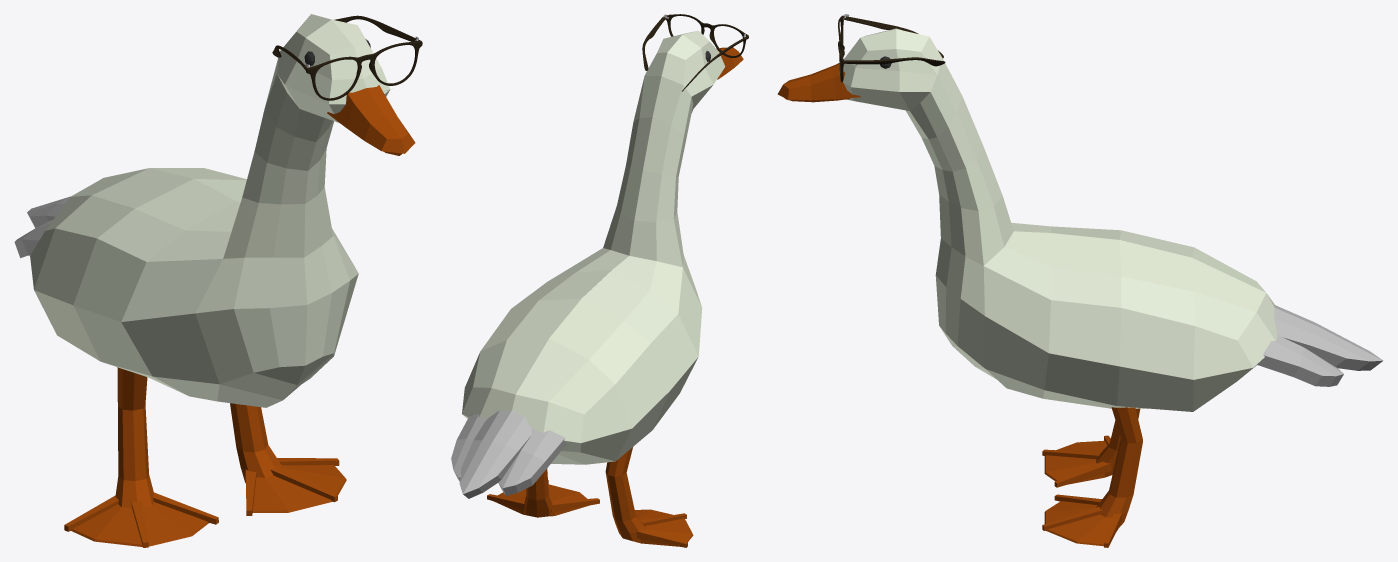
Rendered from duck-glasses.fbx.
3 renders of one model, left to right at view 1: azimuth 30°, elevation 25°; view 2: azimuth 150°, elevation 25°; view 3: azimuth 270°, elevation 25°, orthographic. The views are drawn at different scales.
Parts seen in each view (by area): view 1: duck, Line002.004; view 2: duck, Line002.004; view 3: duck.
Boxes of the visible parts, bbox=[...] form: duck: bbox=[14, 14, 415, 547]; Line002.004: bbox=[306, 40, 422, 100]; duck: bbox=[451, 30, 743, 547]; Line002.004: bbox=[665, 14, 748, 57]; duck: bbox=[777, 28, 1383, 547].
Size of the model in its own units: 177 by 357 by 420.
